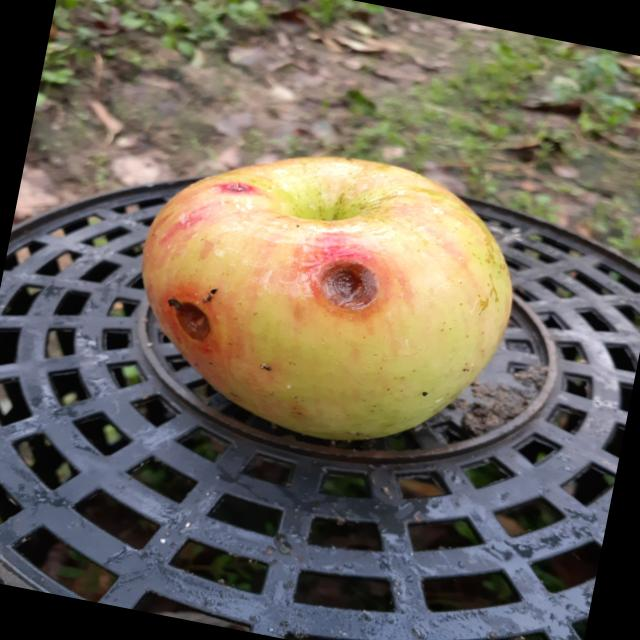rotten: (100, 108, 547, 491)
